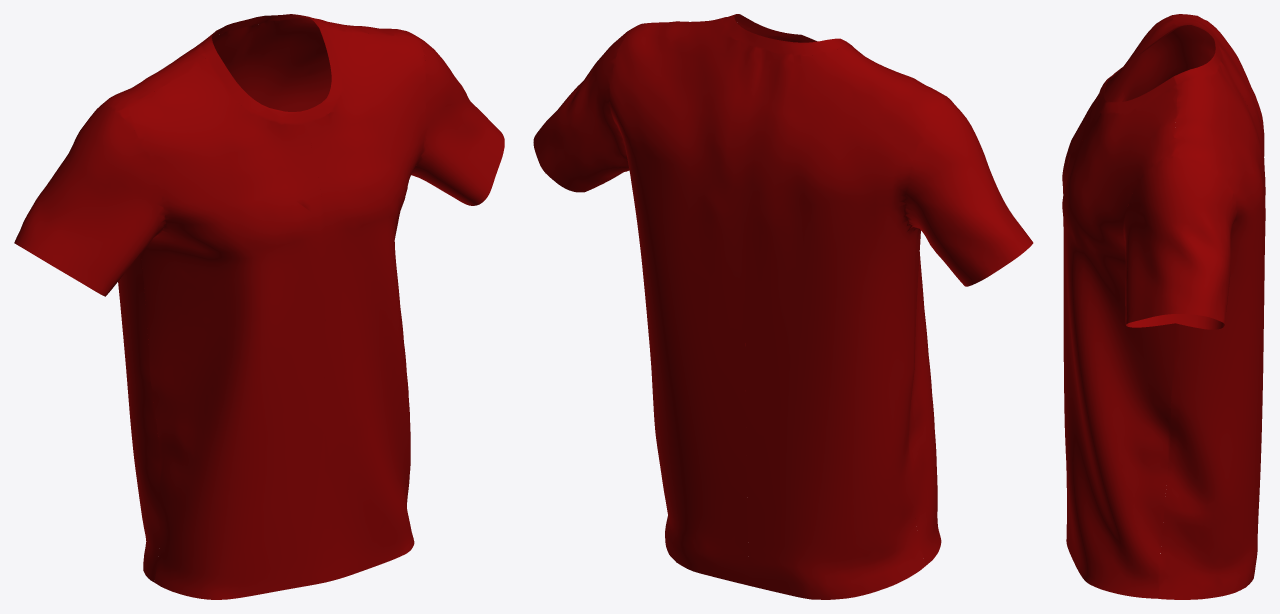
File: tshirt.glb
3 views of the same model, side by side, from view 1: azimuth 30°, elevation 25°; view 2: azimuth 150°, elevation 25°; view 3: azimuth 270°, elevation 25° (orthographic). The views are drawn at different scales.
Parts seen in each view (by area): view 1: tshirt; view 2: tshirt; view 3: tshirt.
Boxes of the visible parts, x1,y1,x2,y2 form: tshirt: (14,14,504,599); tshirt: (533,14,1033,599); tshirt: (1062,14,1265,599).
Bounding box in the file's own units: 0.7404 × 0.7744 × 0.2819.
